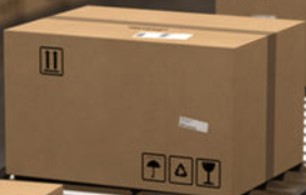stock: (4, 5, 305, 194)
